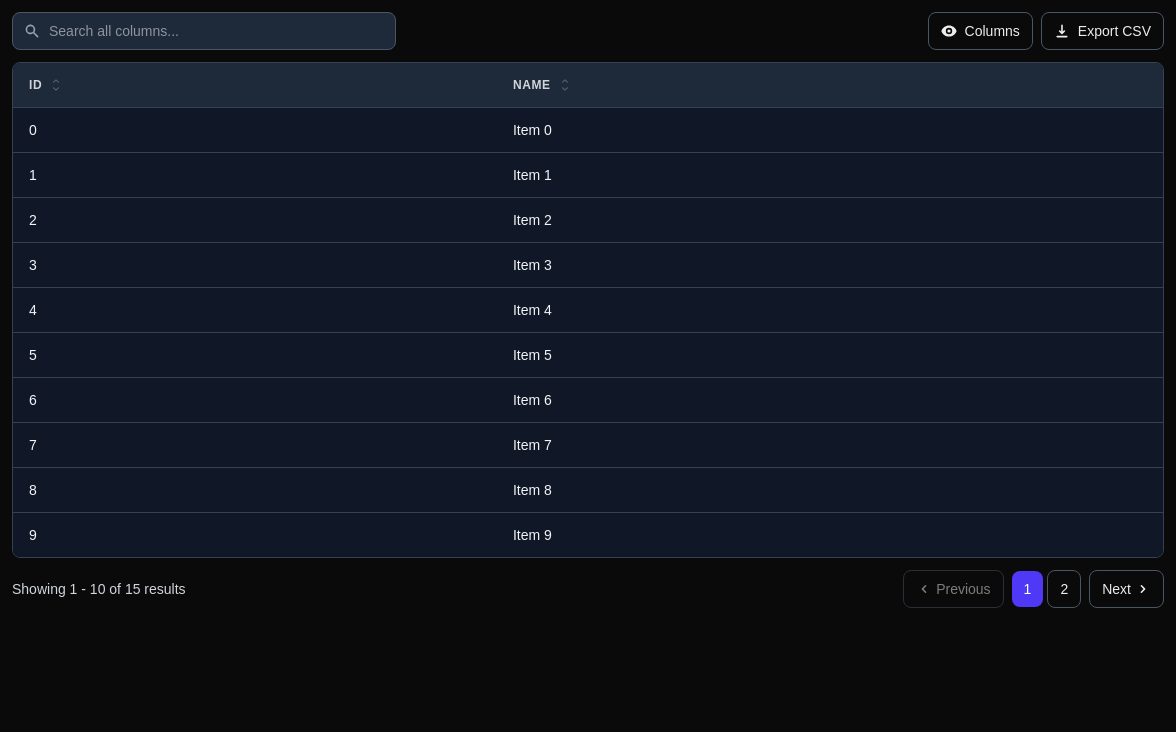
Test case: Complex Widgets › AdvancedTable › paginates data
The width and height of the screenshot is (1176, 732).
Expected: the text "Item 0" is shown, [513,122,552,138]
Expected: the text "Item 11" is not shown
Click the button "Next": (1127, 589) [1089,570,1164,608]
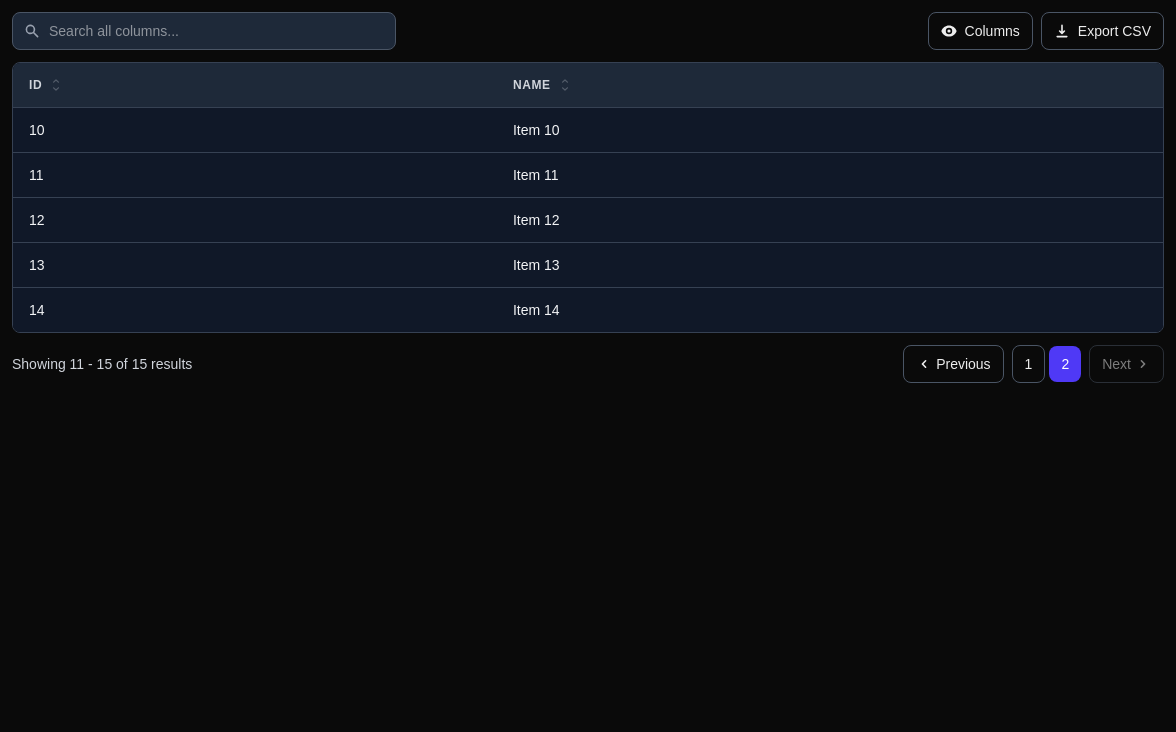
Expected: the text "Item 11" is shown, [513,167,559,183]
Expected: the text "Item 0" is gone
